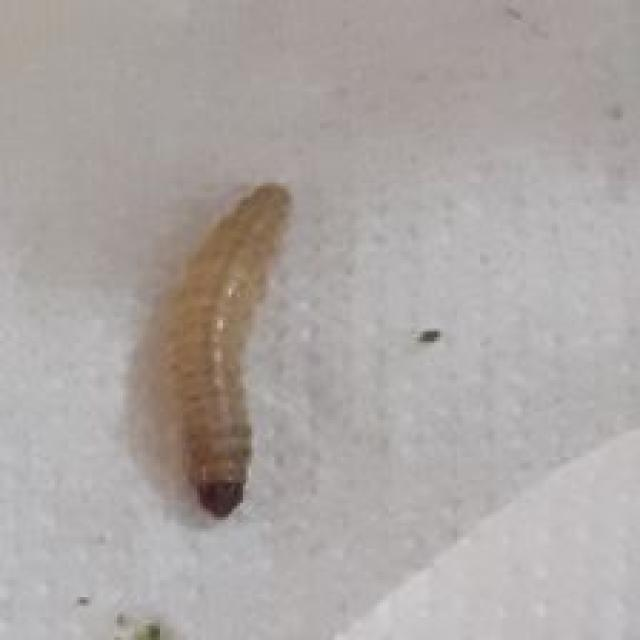white mucus: (145, 161, 342, 525)
